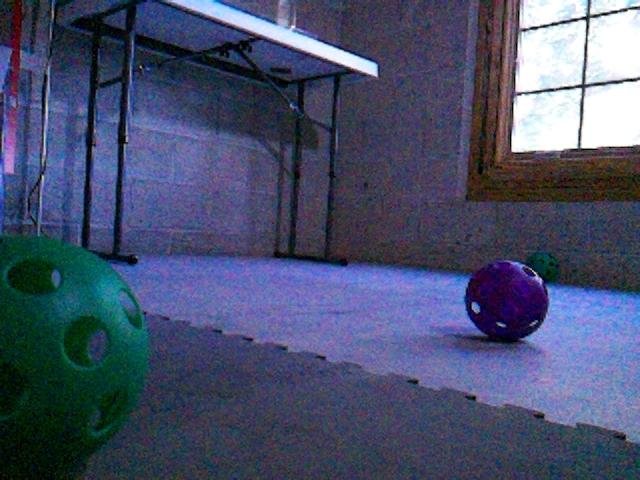Green: (0, 234, 152, 476), (525, 250, 560, 282)
Purple: (463, 259, 550, 341)
